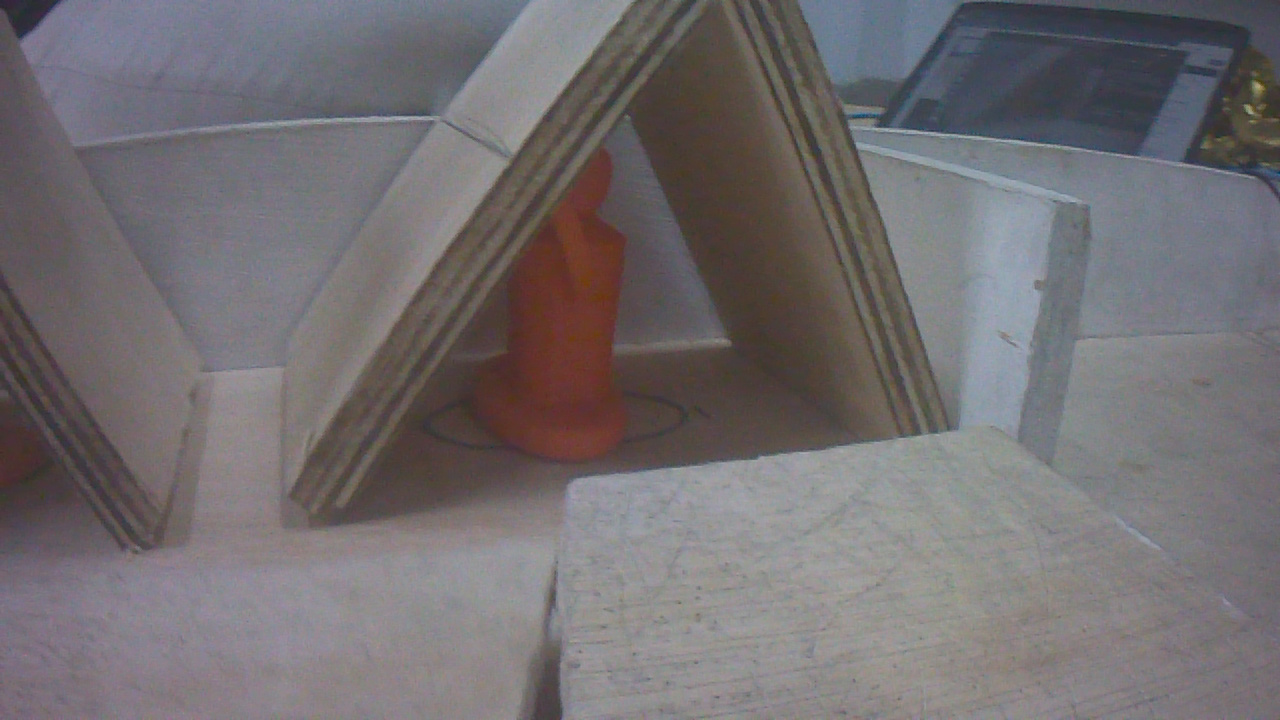real: (446, 129, 670, 464)
